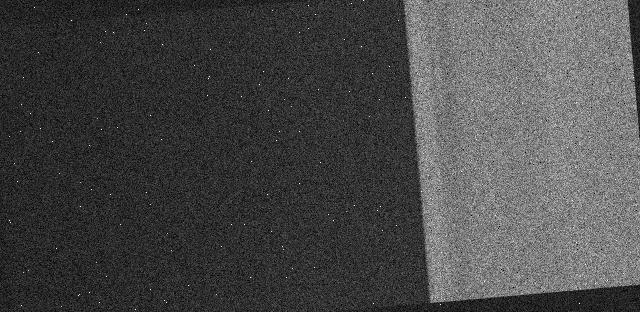silk_spot: (573, 5, 640, 277)
